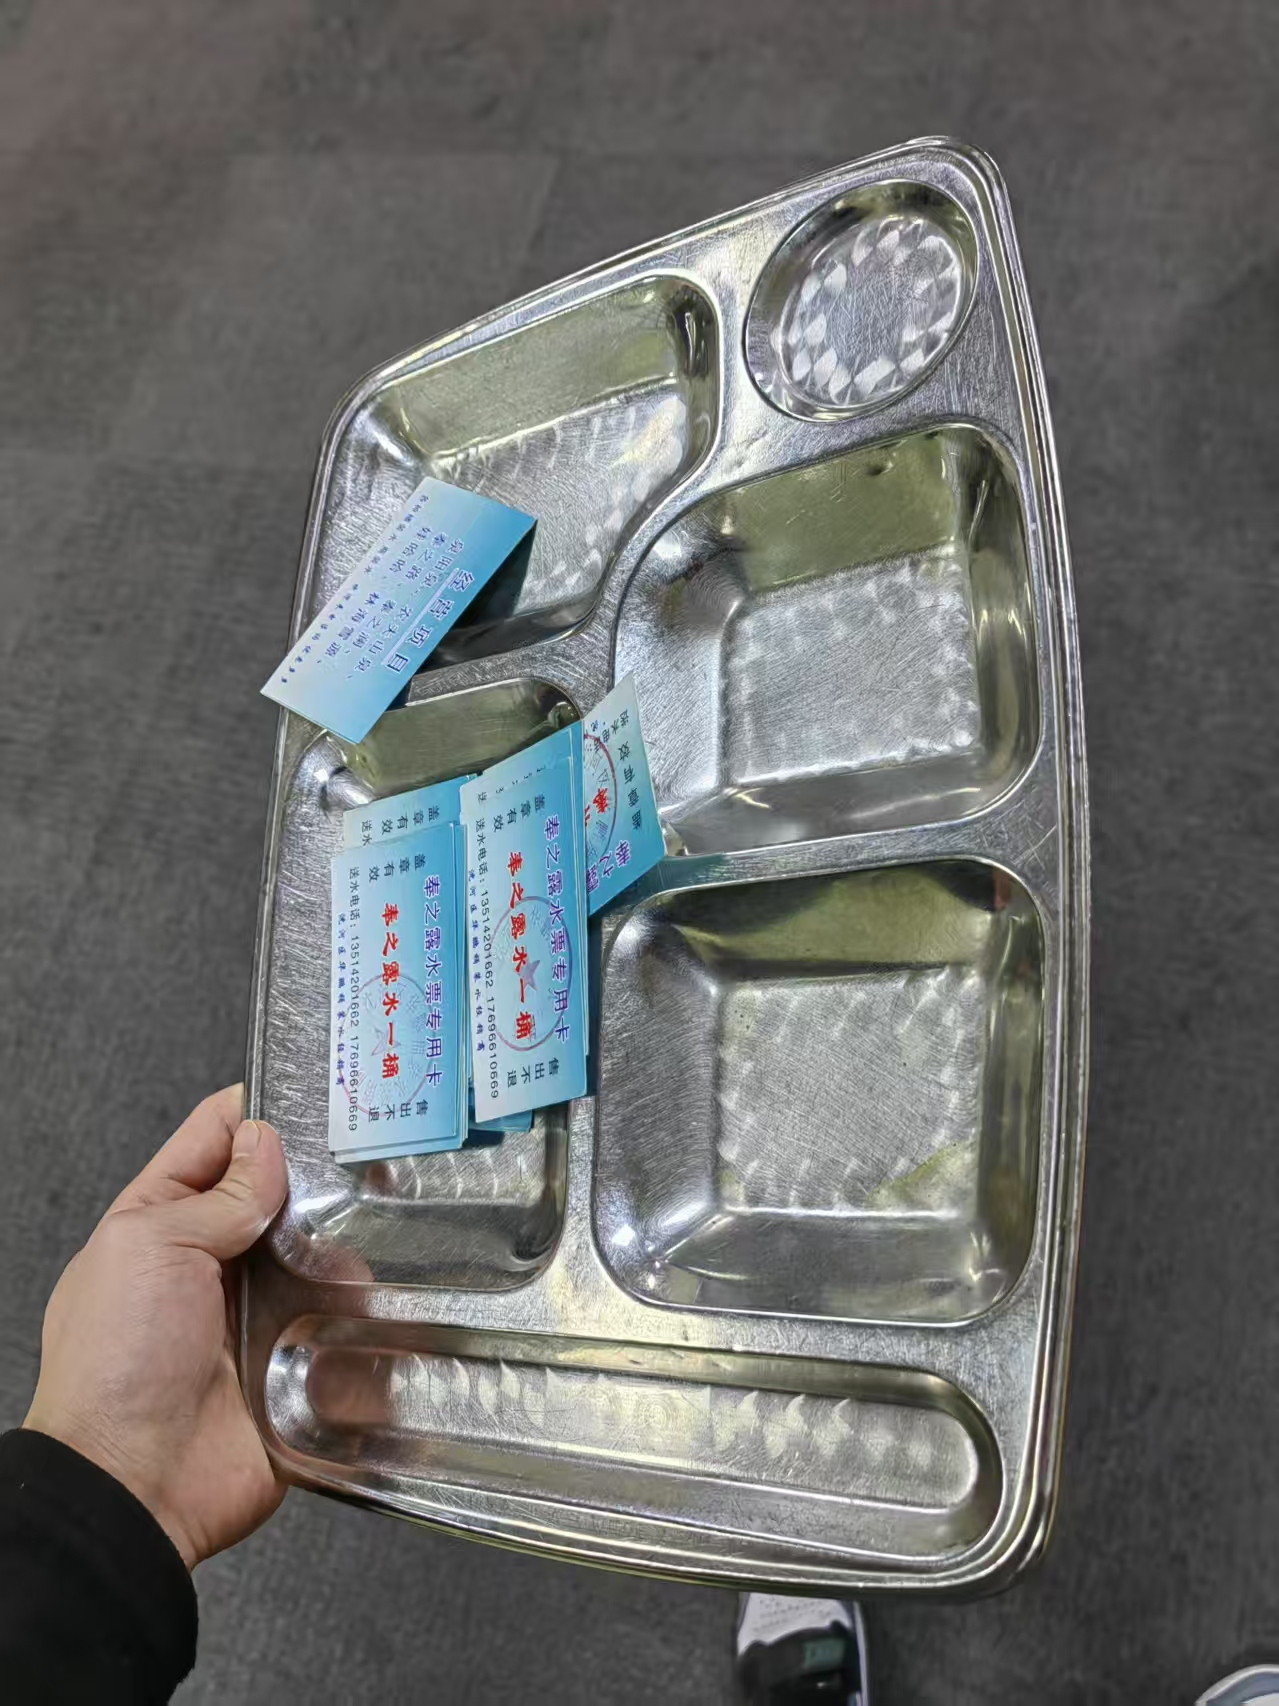mild: (262, 472, 662, 1164)
plate: (236, 134, 1098, 1603)
